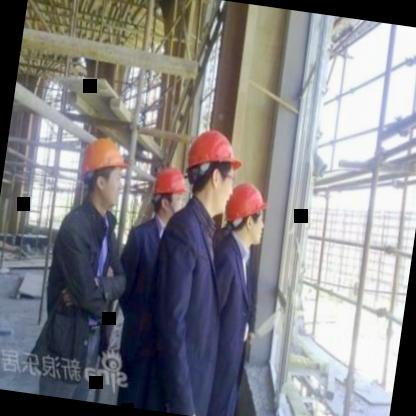helmet: (177, 123, 242, 215), (74, 136, 129, 214), (221, 176, 272, 251), (146, 164, 192, 222)
